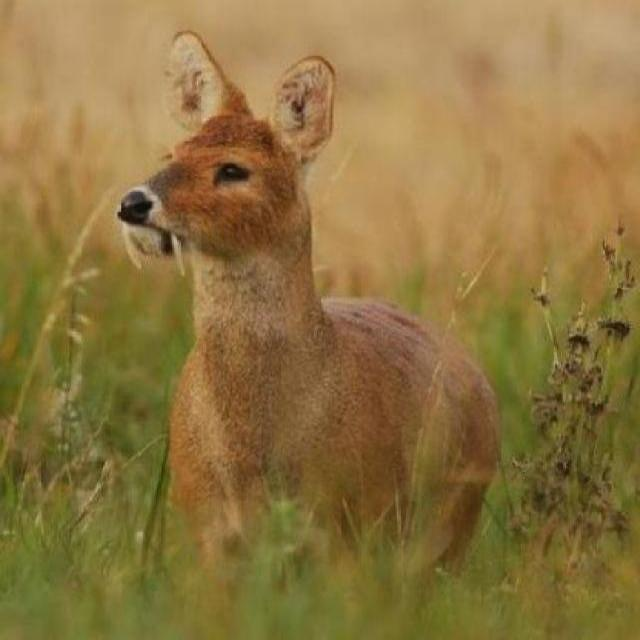deer: (110, 26, 507, 569)
